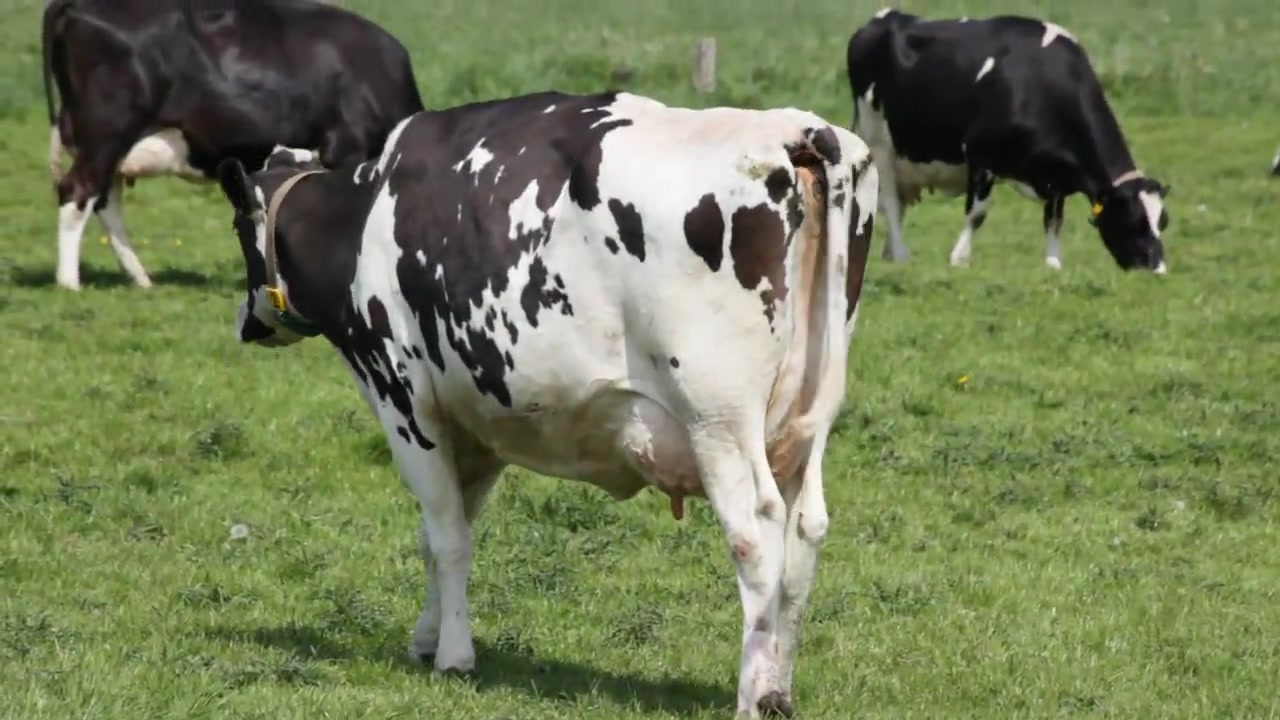cow: (223, 93, 883, 719)
